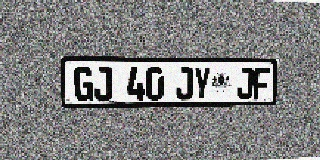0: (146, 67, 163, 100)
4: (127, 67, 145, 101)
F: (253, 68, 270, 99)
G: (74, 67, 93, 101)
J: (94, 67, 113, 101), (176, 67, 193, 100), (237, 68, 254, 99)
Y: (193, 67, 211, 100)
